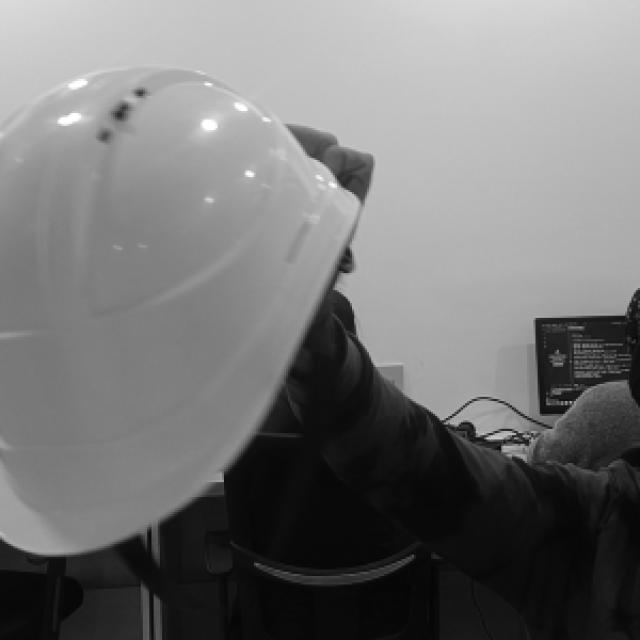safety_helmet: (0, 68, 363, 555)
